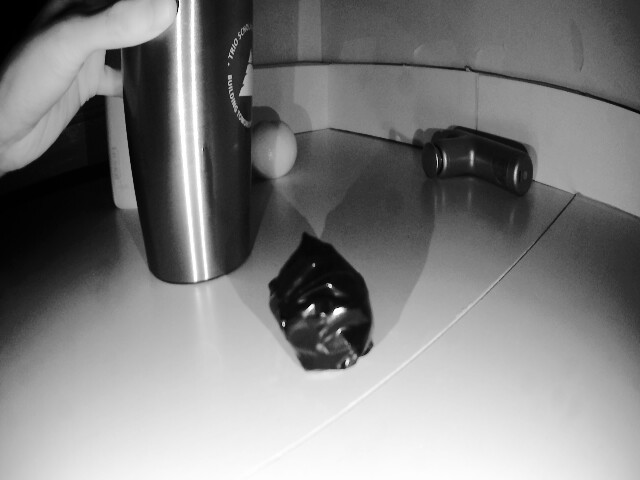silver: (259, 237, 378, 368)
